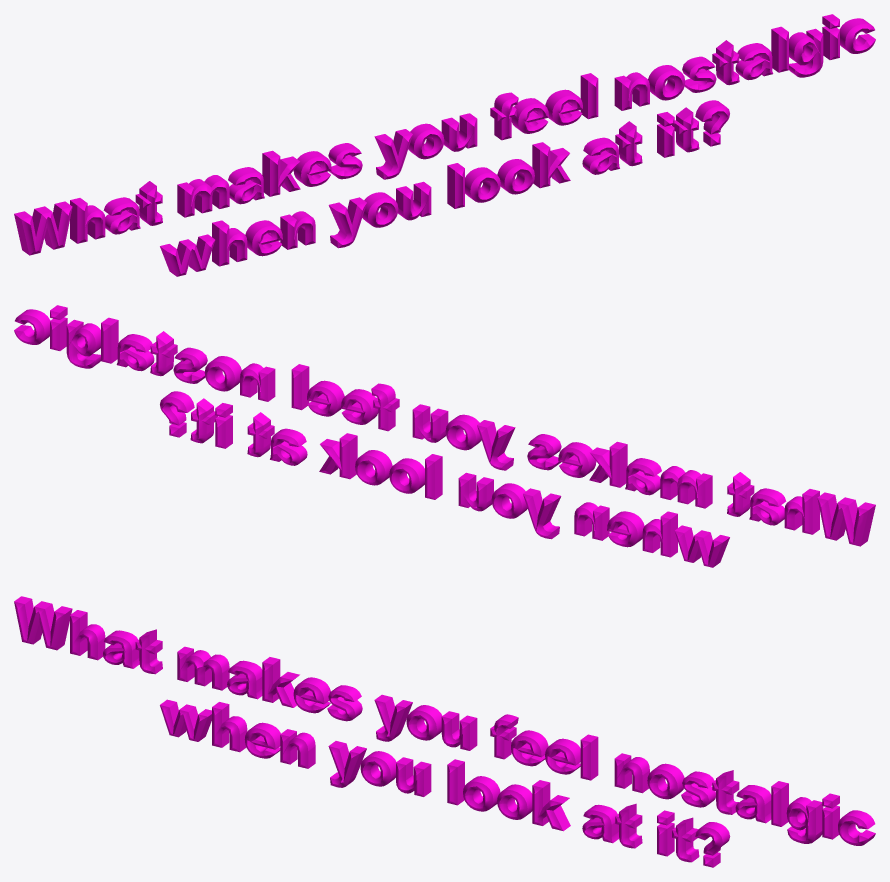
File: scene1_question.fbx
The picture shows the model from 3 angles, top to bottom: view 1: azimuth 30°, elevation 25°; view 2: azimuth 150°, elevation 25°; view 3: azimuth 330°, elevation 25°; orthographic projection.
Visible parts, largest first — view 1: W, m, w, g, k, k_2, h, h_2, y_2, y, u, n (+29 smaller); view 2: W, m, w, g, k, k_2, h, h_2, y_2, y, u, n (+29 smaller); view 3: W, m, w, g, k_2, h, h_2, k, u, u_2, n_2, y_2 (+29 smaller).
Part boxes in pixels (left/top/right/bottom): W: left=14, top=201, right=72, bottom=255; m: left=177, top=175, right=229, bottom=217; w: left=160, top=234, right=215, bottom=276; g: left=789, top=28, right=823, bottom=77; k: left=262, top=150, right=300, bottom=196; k_2: left=532, top=142, right=570, bottom=188; h: left=70, top=198, right=105, bottom=243; h_2: left=212, top=220, right=247, bottom=266; y_2: left=328, top=197, right=366, bottom=248; y: left=374, top=129, right=412, bottom=179; u: left=441, top=113, right=477, bottom=151; n: left=614, top=72, right=649, bottom=110; W: left=817, top=492, right=875, bottom=546; m: left=660, top=466, right=712, bottom=508; w: left=674, top=525, right=729, bottom=567; g: left=66, top=319, right=100, bottom=368; k: left=589, top=441, right=627, bottom=487; k_2: left=319, top=433, right=357, bottom=479; h: left=784, top=489, right=819, bottom=534; h_2: left=642, top=511, right=677, bottom=557; y_2: left=523, top=488, right=561, bottom=539; y: left=477, top=420, right=515, bottom=470; u: left=412, top=404, right=448, bottom=442; n: left=240, top=363, right=275, bottom=401; W: left=14, top=596, right=72, bottom=650; m: left=177, top=646, right=229, bottom=690; w: left=160, top=699, right=211, bottom=741; g: left=786, top=797, right=823, bottom=843; k_2: left=532, top=780, right=570, bottom=831; h: left=70, top=610, right=105, bottom=660; h_2: left=212, top=702, right=247, bottom=752; k: left=262, top=657, right=299, bottom=707; u: left=441, top=711, right=477, bottom=750; u_2: left=396, top=757, right=431, bottom=796; n_2: left=280, top=729, right=315, bottom=768; y_2: left=328, top=741, right=366, bottom=787.
Size of the model in its own units: 3339 by 402 by 91.77.
